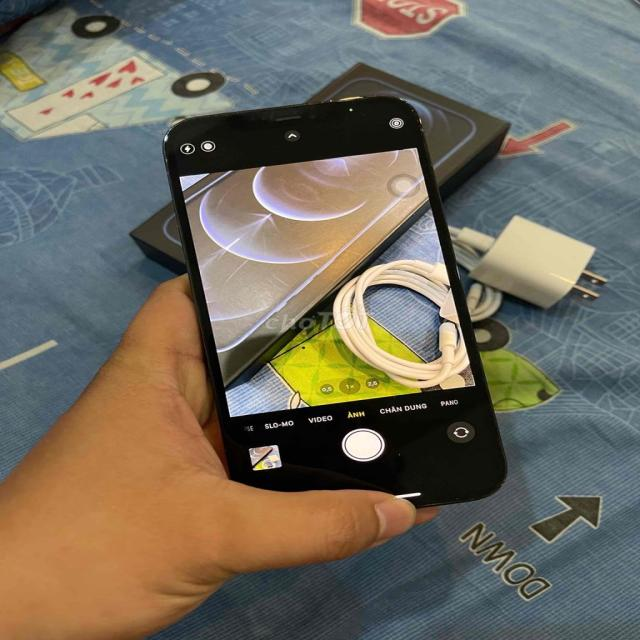gen_12_13: (147, 97, 512, 517)
